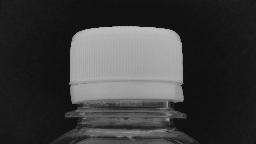Loose Cap: (54, 74, 194, 122)
